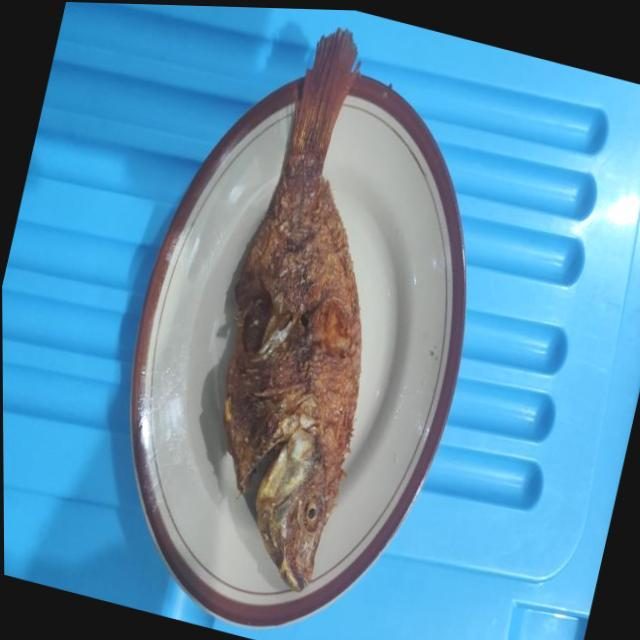ikan_mujair: (224, 28, 361, 589)
